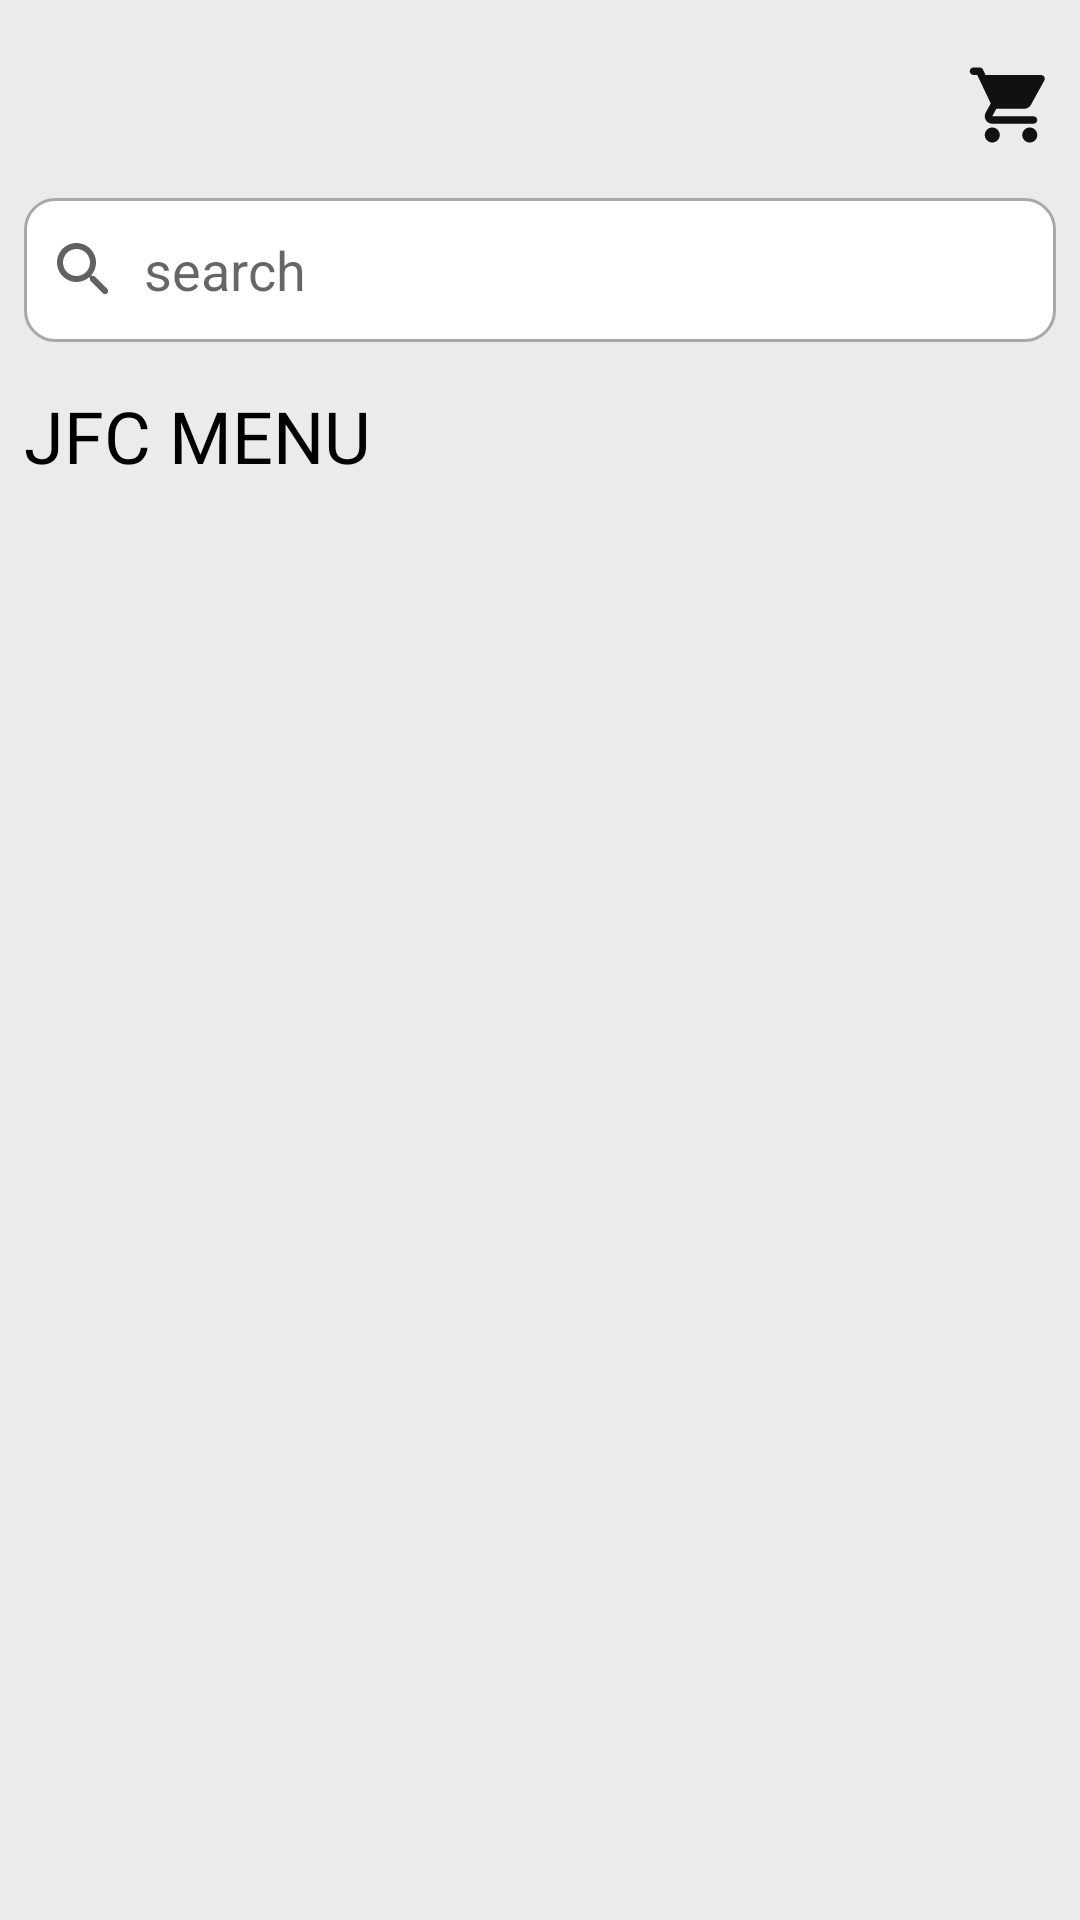

Named icons in this screenshot (1080x1920) and their bounding boxes, (x1, y1, x2, y2):
cart: (969, 67, 1045, 143)
